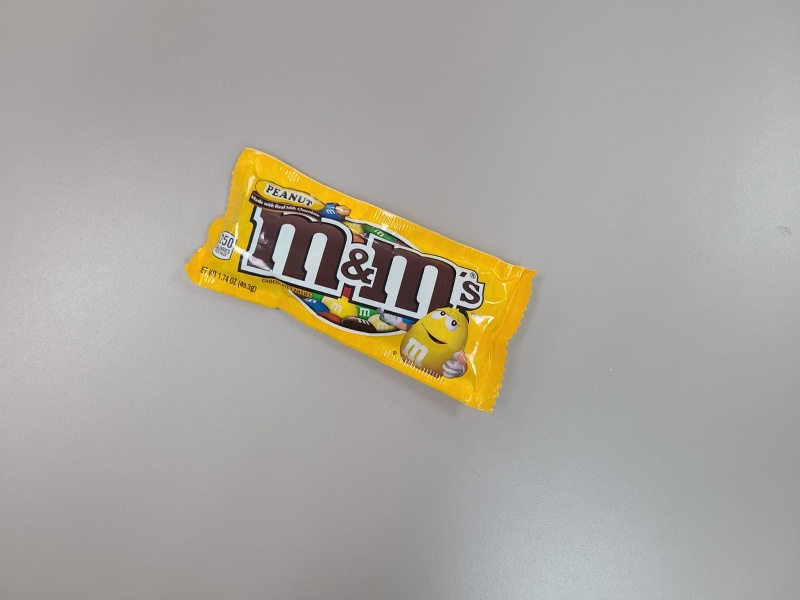m&m: (183, 143, 538, 414)
